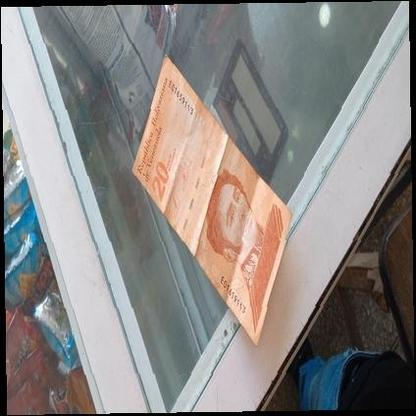twenty-front-vef: (130, 53, 294, 346)
